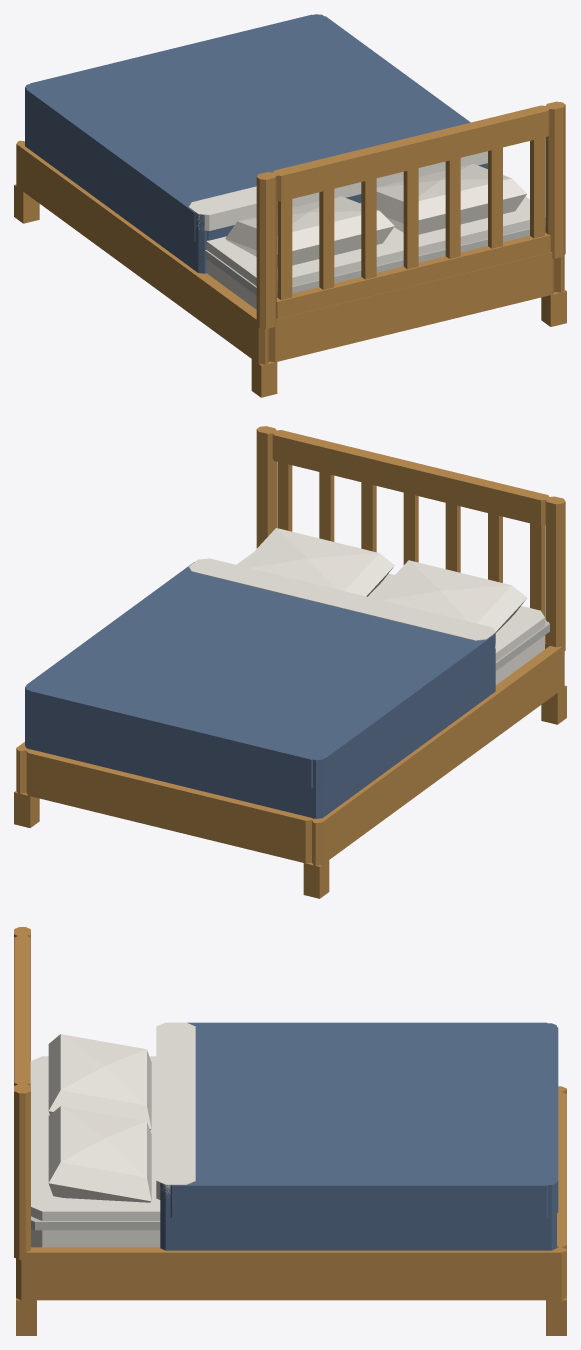
File: SM_LPI_Bed_Double_01.fbx
The picture shows the model from 3 angles, top to bottom: view 1: azimuth 30°, elevation 25°; view 2: azimuth 150°, elevation 25°; view 3: azimuth 270°, elevation 25°; orthographic projection. The views are drawn at different scales.
Visible parts, largest first — view 1: SM_LPI_Bed_Double_01; view 2: SM_LPI_Bed_Double_01; view 3: SM_LPI_Bed_Double_01.
Boxes of the visible parts, <box> form: SM_LPI_Bed_Double_01: <box>14,14,566,397</box>; SM_LPI_Bed_Double_01: <box>14,426,566,898</box>; SM_LPI_Bed_Double_01: <box>14,927,566,1335</box>.
Bounding box in the file's own units: 1.5 × 1.02 × 2.11.
